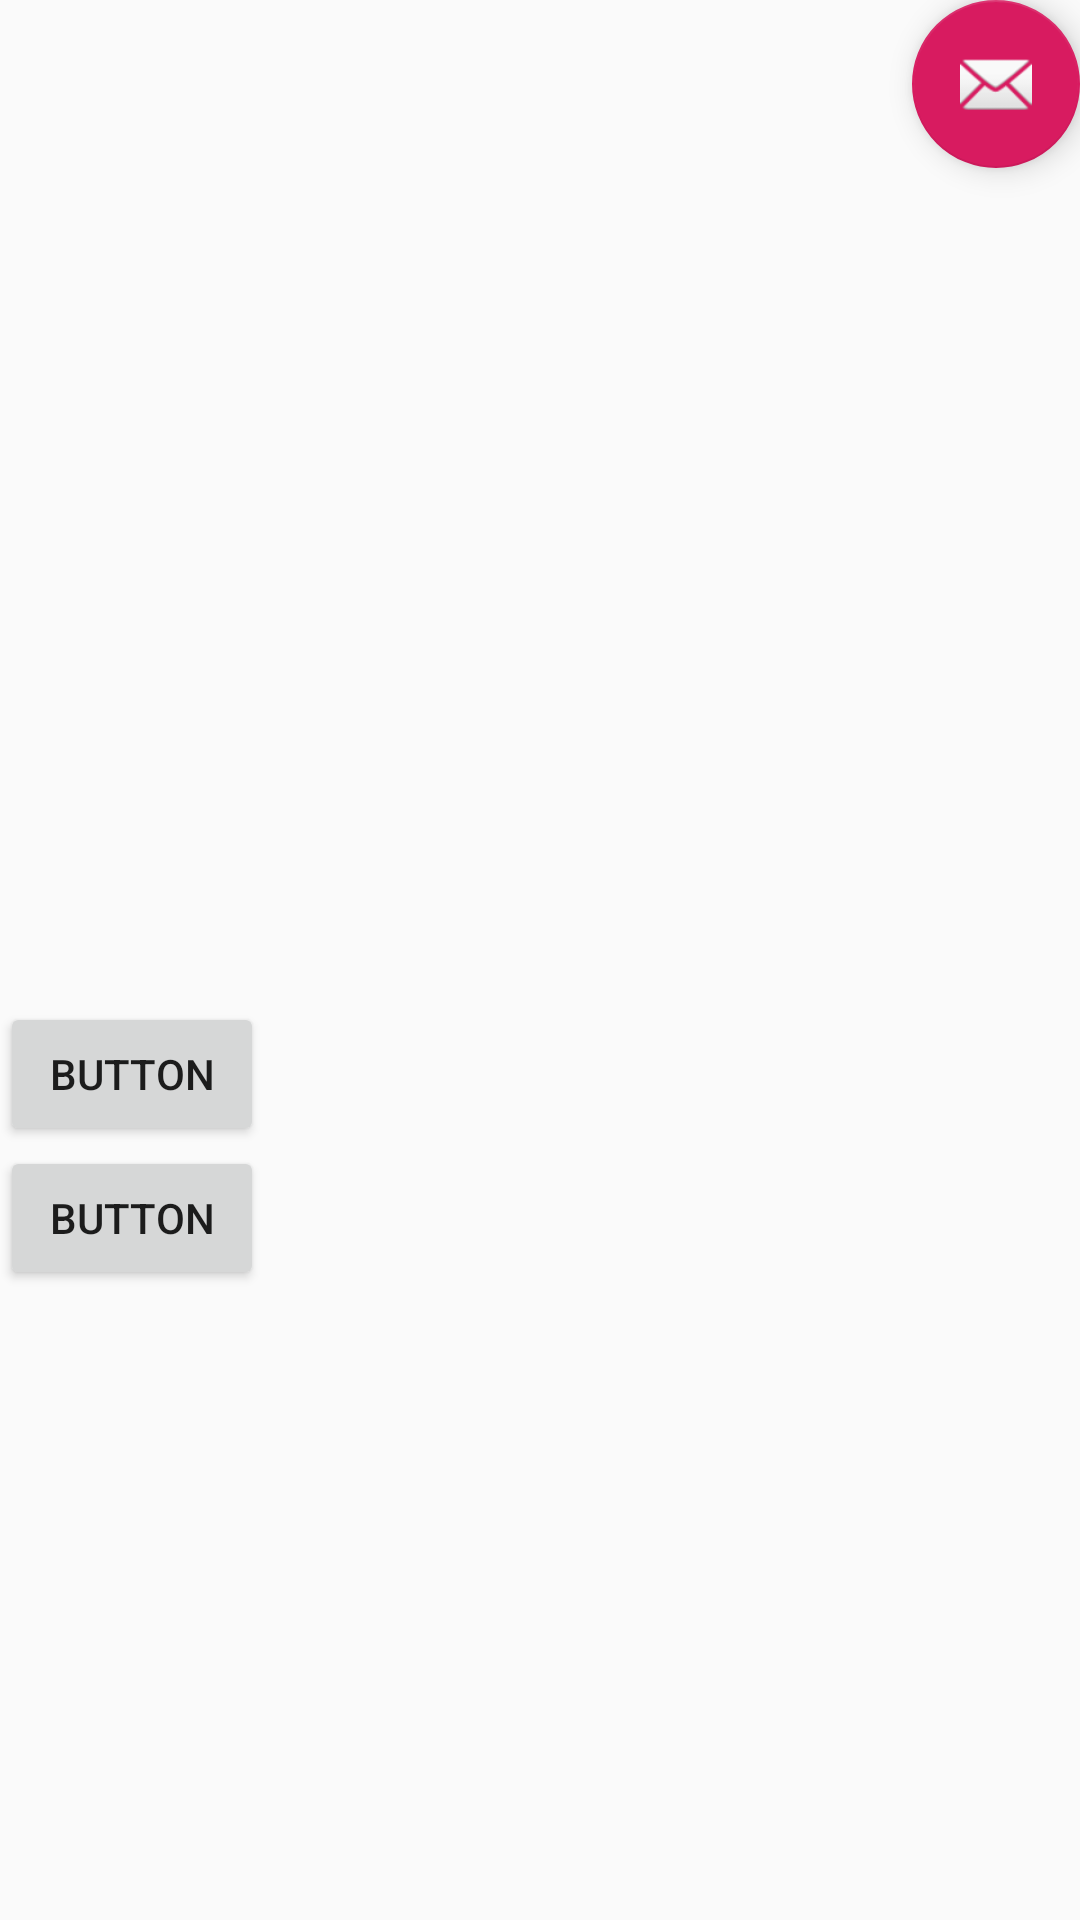

Where to tap for icons on this 1080×1920 app screen, as (x,y):
email: (996,84)
